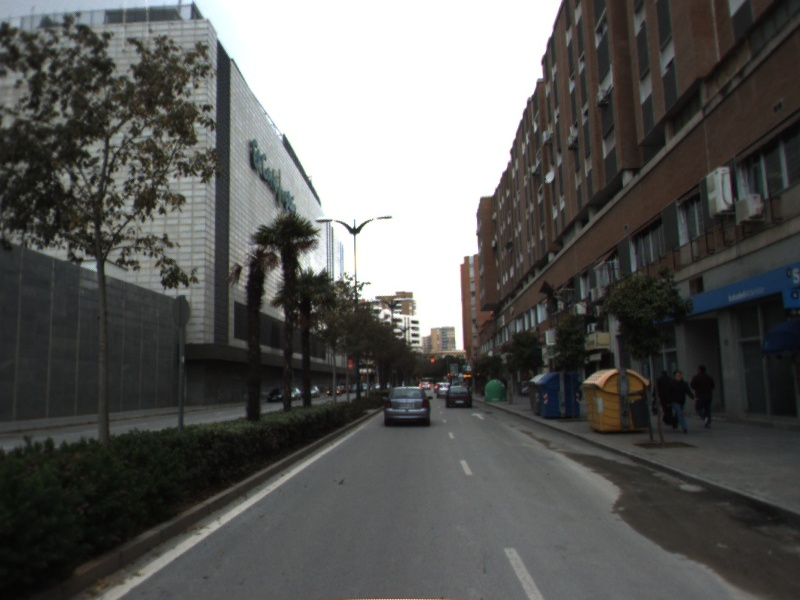STRAIGHT: (469, 410, 487, 422)
